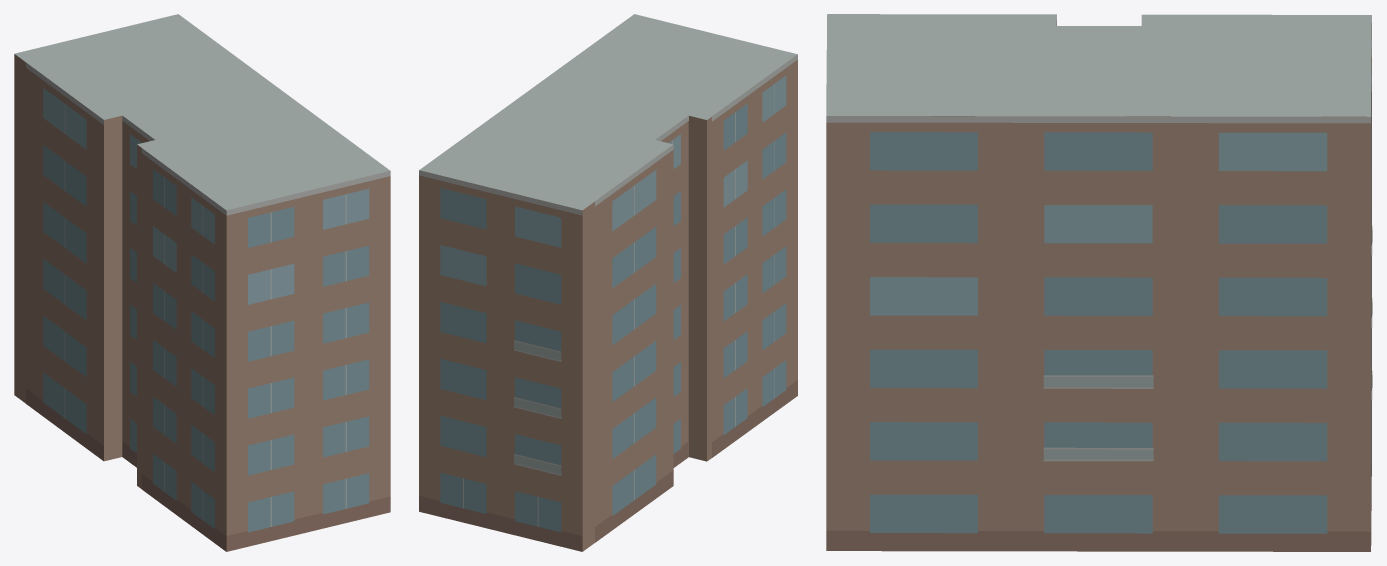
File: survey-upis-32564832.glb
The picture shows the model from 3 angles, left to right: view 1: azimuth 30°, elevation 25°; view 2: azimuth 150°, elevation 25°; view 3: azimuth 270°, elevation 25°; orthographic projection. The views are drawn at different scales.
Visible parts, largest first — view 1: survey-upis-32564832.tmp; view 2: survey-upis-32564832.tmp; view 3: survey-upis-32564832.tmp.
Boxes of the visible parts, x1,y1,x2,y2 form: survey-upis-32564832.tmp: (14, 14, 390, 551); survey-upis-32564832.tmp: (419, 14, 797, 551); survey-upis-32564832.tmp: (826, 14, 1372, 551).
Bounding box in the file's own units: 8.12 × 16 × 18.23.
